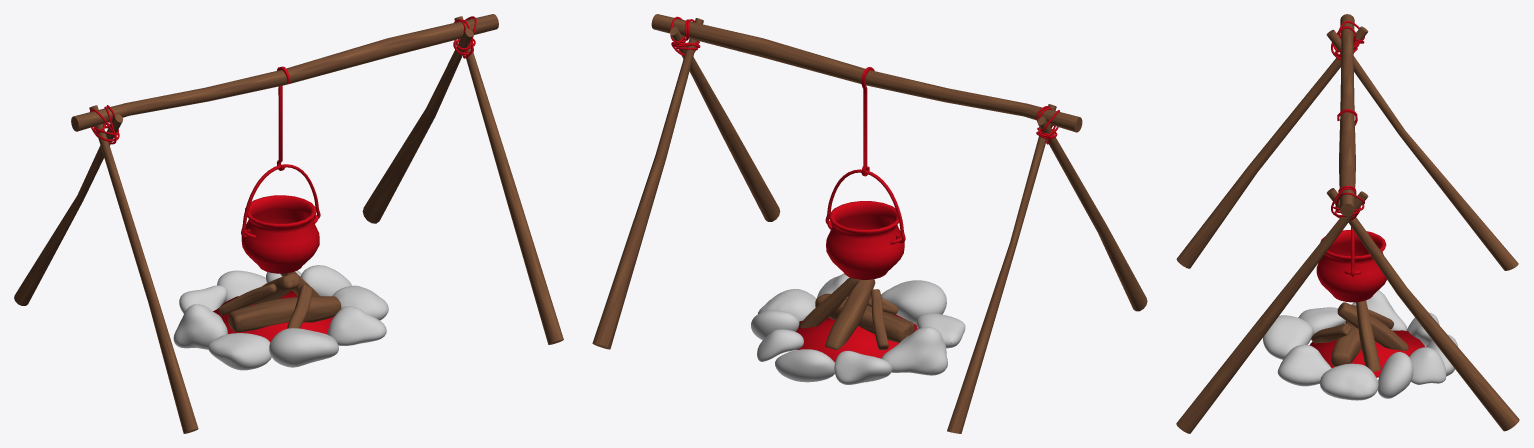
Rendered from campSite.fbx.
3 renders of one model, left to right at view 1: azimuth 30°, elevation 25°; view 2: azimuth 150°, elevation 25°; view 3: azimuth 270°, elevation 25°, orthographic. The views are drawn at different scales.
Parts seen in each view (by area): view 1: wooden logs, rock.015, wooden_log_top, kettle, burnt logs, nashshiri, ropes; view 2: wooden logs, rock.015, wooden_log_top, kettle, burnt logs, nashshiri, ropes, kauchi; view 3: wooden logs, rock.015, kettle, burnt logs, wooden_log_top, nashshiri, ropes.
Part boxes in pixels (x1=…): wooden logs: x1=14, y1=16, x2=563, y2=433; rock.015: x1=173, y1=265, x2=388, y2=370; wooden_log_top: x1=71, y1=14, x2=498, y2=131; kettle: x1=241, y1=164, x2=320, y2=273; burnt logs: x1=218, y1=271, x2=341, y2=332; nashshiri: x1=213, y1=290, x2=333, y2=342; ropes: x1=90, y1=16, x2=476, y2=144; wooden logs: x1=592, y1=18, x2=1147, y2=433; rock.015: x1=751, y1=273, x2=965, y2=384; wooden_log_top: x1=651, y1=14, x2=1082, y2=132; kettle: x1=825, y1=169, x2=905, y2=279; burnt logs: x1=799, y1=277, x2=914, y2=350; nashshiri: x1=796, y1=314, x2=917, y2=362; ropes: x1=670, y1=16, x2=1059, y2=144; kauchi: x1=861, y1=67, x2=874, y2=176; wooden logs: x1=1176, y1=26, x2=1519, y2=433; rock.015: x1=1263, y1=290, x2=1457, y2=400; kettle: x1=1316, y1=227, x2=1386, y2=302; burnt logs: x1=1311, y1=300, x2=1408, y2=372; wooden_log_top: x1=1339, y1=14, x2=1355, y2=216; nashshiri: x1=1309, y1=330, x2=1425, y2=377; ropes: x1=1331, y1=21, x2=1364, y2=220.
Bounding box in the file's own units: 35.33 × 27.06 × 22.6.
